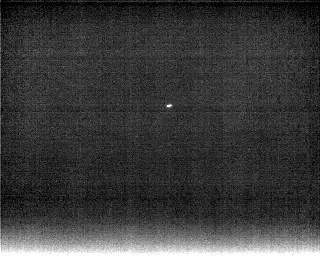BIRD: (165, 101, 174, 110)
